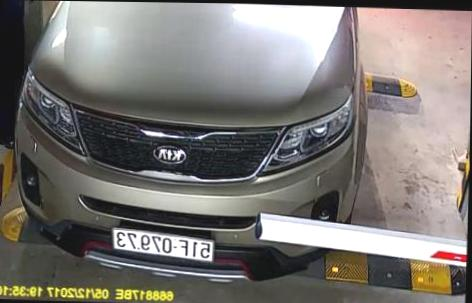License_Plate: (106, 226, 222, 263)
